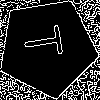T: (22, 22, 72, 60)
